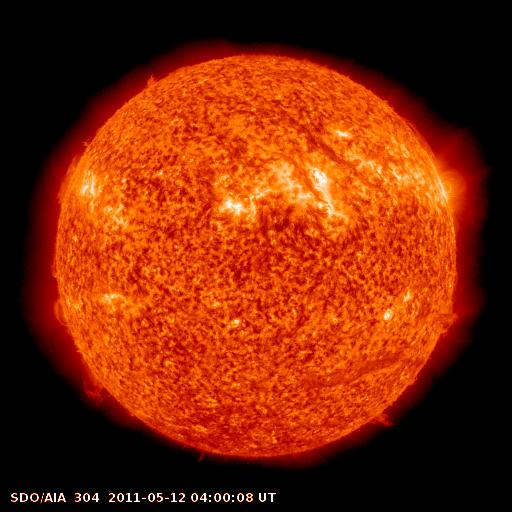prominence: (52, 129, 91, 210), (396, 113, 446, 174), (77, 351, 114, 416), (44, 295, 81, 338), (364, 404, 402, 438), (40, 252, 77, 284), (433, 307, 467, 341), (138, 65, 168, 97)
